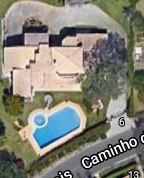pool: (34, 117, 75, 138)
